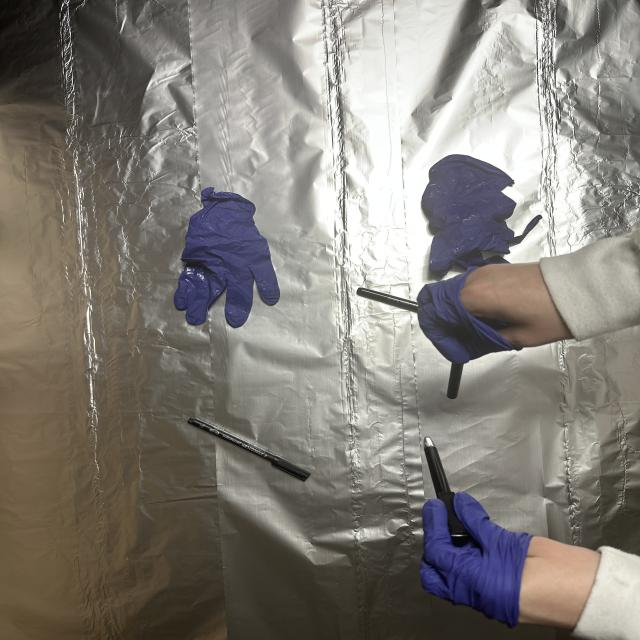glove_partial: (416, 492, 604, 632), (412, 260, 574, 360)
